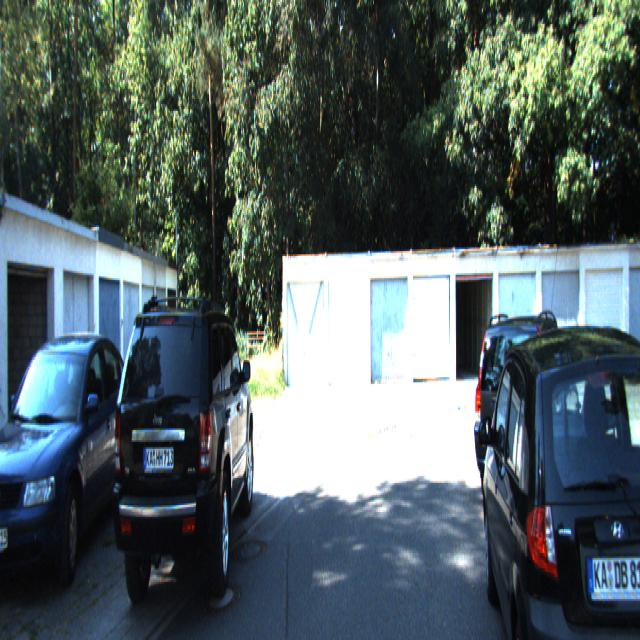Car: (478, 317, 640, 638), (113, 300, 255, 625), (0, 335, 140, 616), (473, 304, 579, 534)
